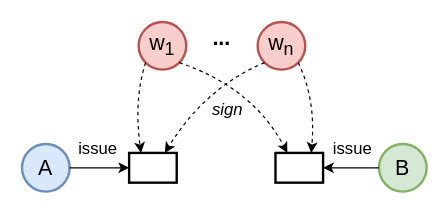
The diagram is 447 pixels wide and 213 high, and some of its shapes have lost their labels. Each missing label, with the box of its shape:
tx a: (127, 151, 177, 183)
tx b: (274, 151, 324, 183)
